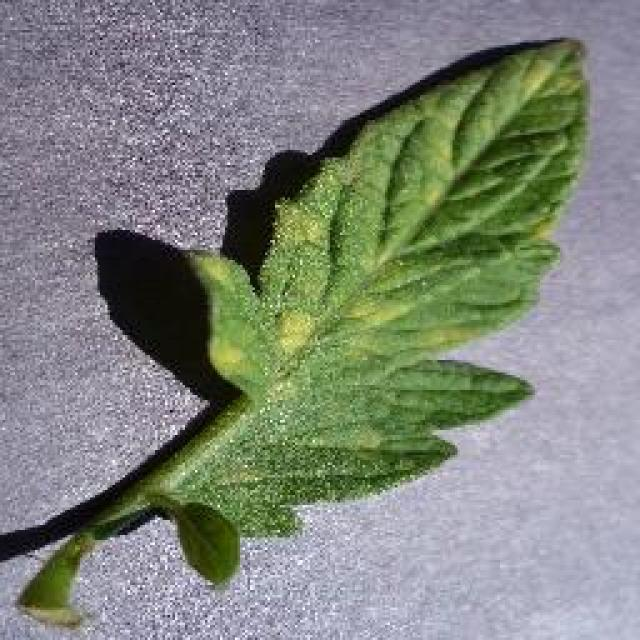Tomato___Leaf_Mold: (20, 40, 588, 622)
